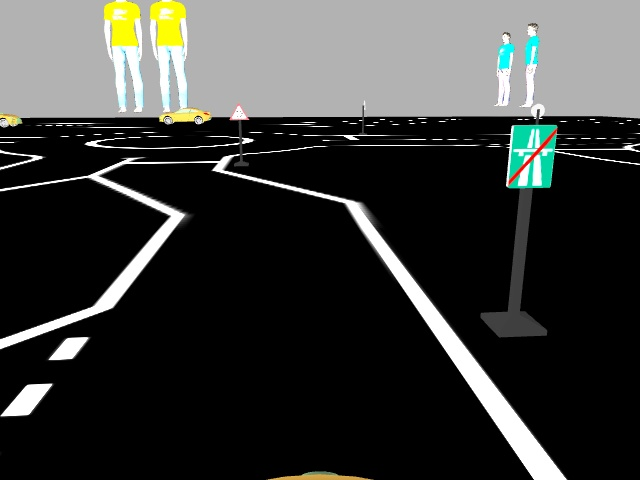HighwayExit: (507, 124, 555, 187)
